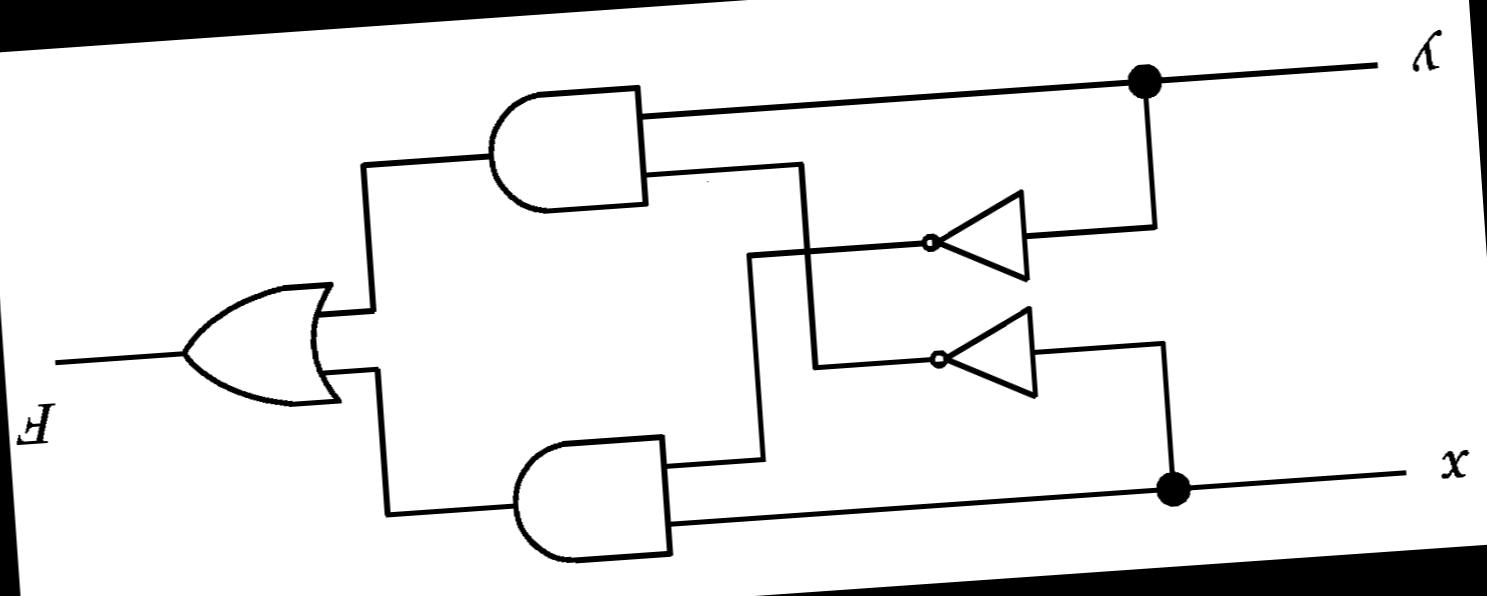and: (498, 424, 680, 576), (474, 77, 656, 228)
not: (914, 298, 1047, 415), (910, 181, 1035, 296)
or: (169, 272, 347, 422)
